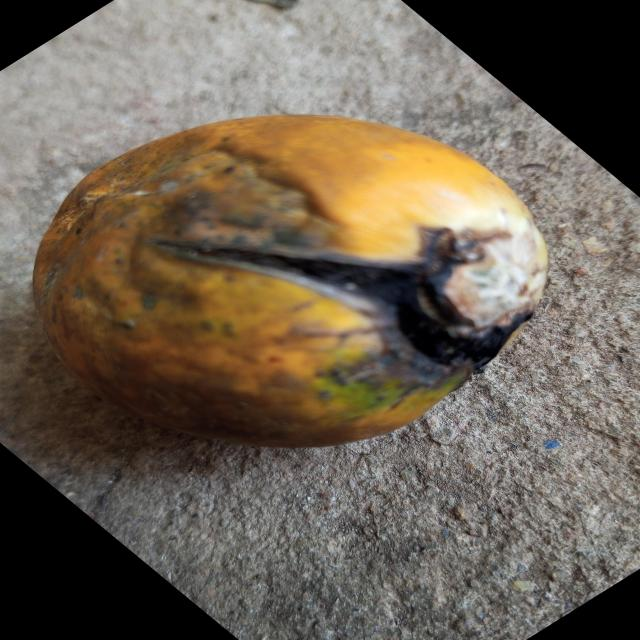damaged: (31, 114, 549, 451)
